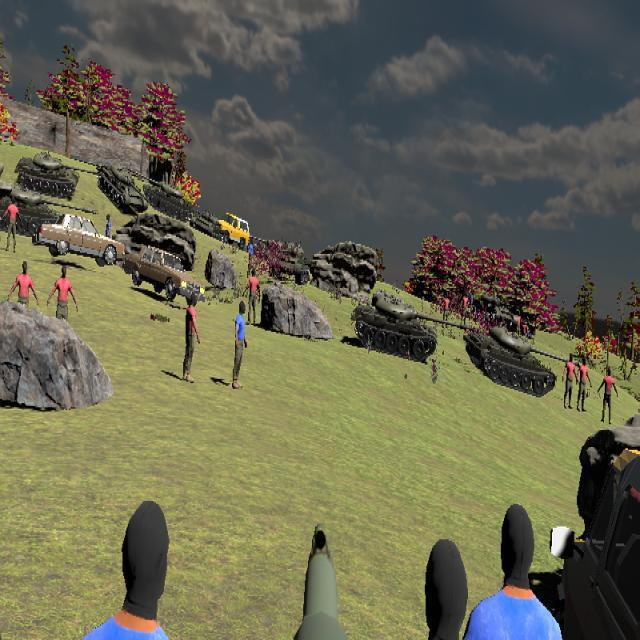Human: (46, 266, 77, 348), (9, 261, 39, 334), (183, 293, 200, 382), (232, 301, 248, 389), (597, 366, 619, 425), (2, 195, 23, 253), (243, 268, 261, 323), (562, 352, 578, 410), (576, 356, 592, 413)
Tank: (352, 293, 477, 363), (464, 326, 571, 398), (0, 190, 99, 235), (14, 150, 97, 198), (132, 167, 195, 220), (97, 161, 149, 213)
car: (33, 213, 126, 267), (123, 246, 185, 300), (217, 213, 250, 249)
